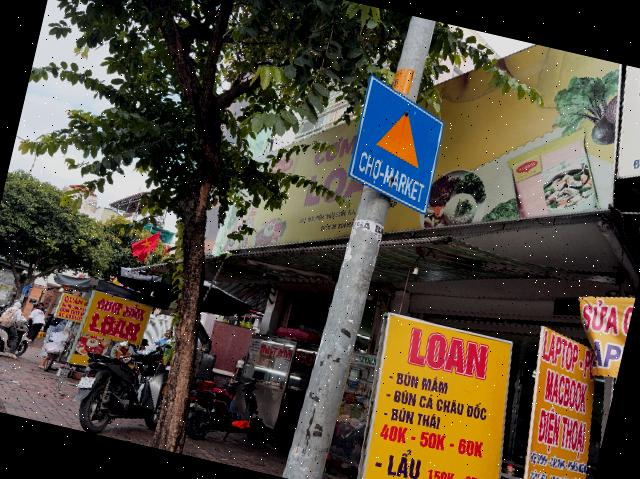khu-vuc-cho-phia-truoc: (342, 72, 454, 214)
